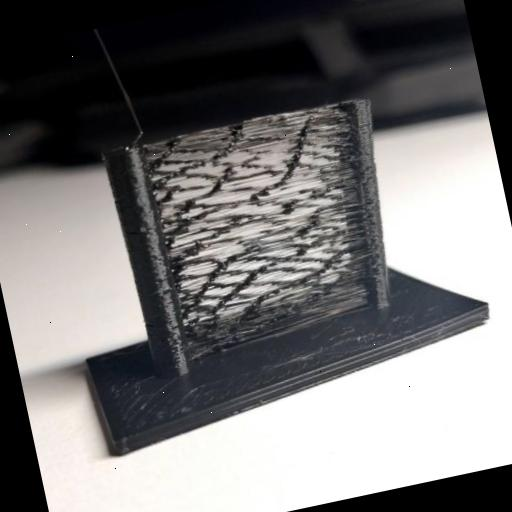stringing: (130, 99, 401, 362)
